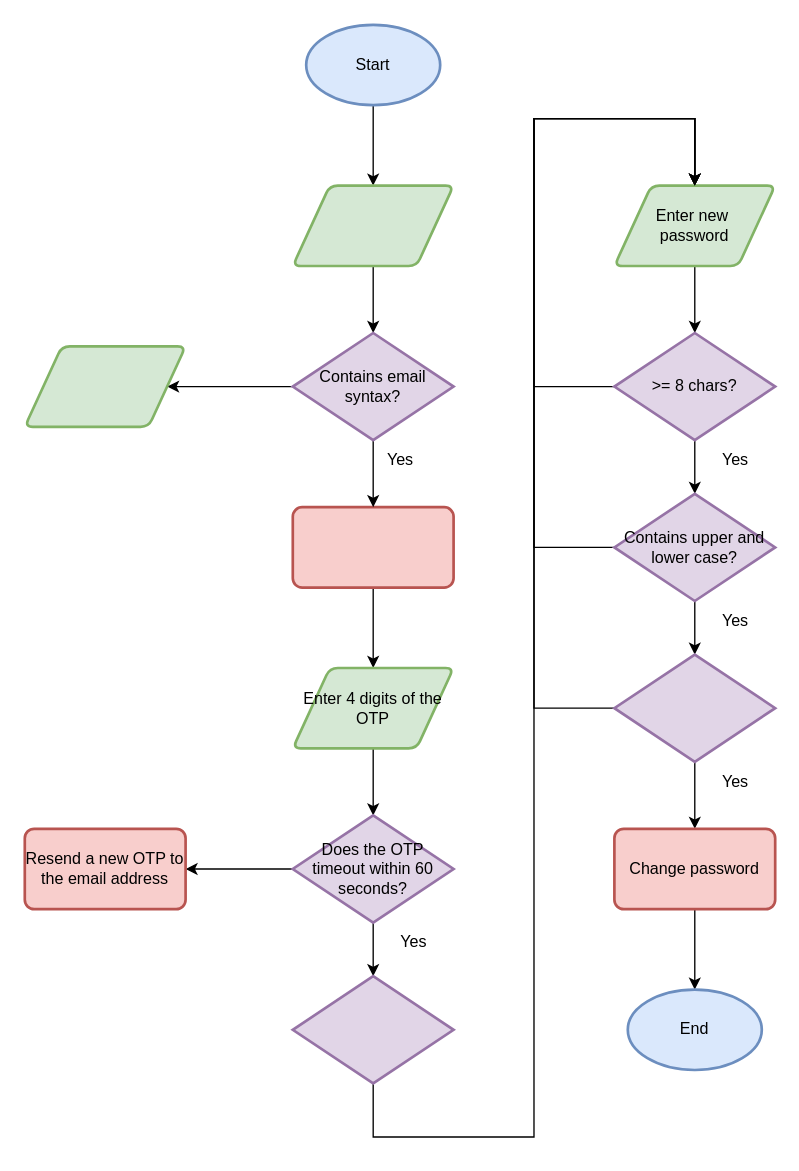
Image size: 799x1171. Some labels were removed from this diagram. Here are the shapes that lost their labels. From the top down, the centre of each, then its label:
pixel 372 225: Enter email
pixel 104 385: Output error message
pixel 372 546: Send an OTP to the email address
pixel 694 707: Contains at least 1 symbol?
pixel 372 1029: Correct OTP?
